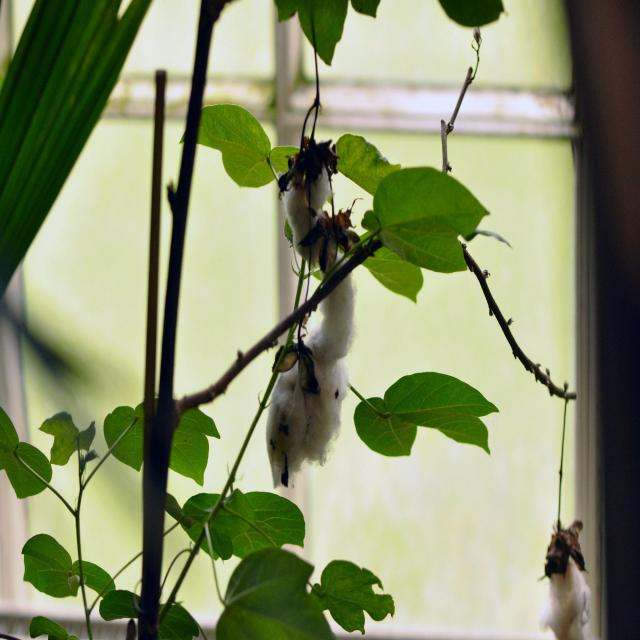Early_blight: (267, 346, 348, 488), (281, 147, 335, 266), (306, 236, 355, 363)
